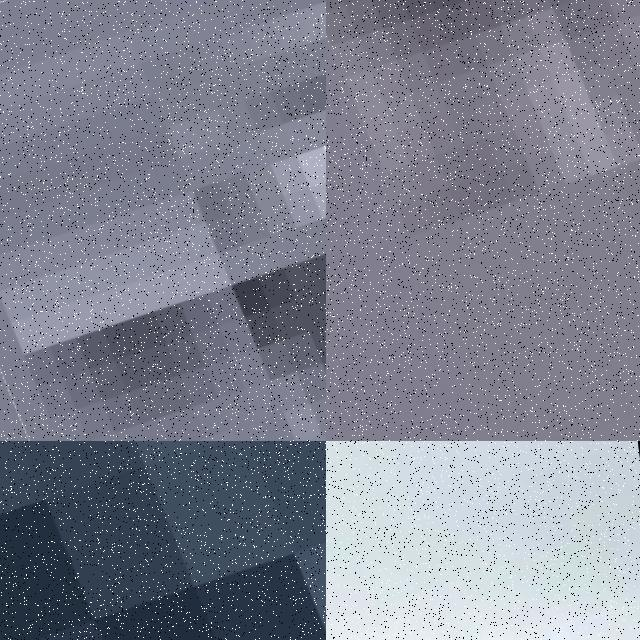0: (0, 0, 326, 441), (326, 0, 640, 441)
drone: (0, 441, 326, 640), (326, 441, 640, 640)
